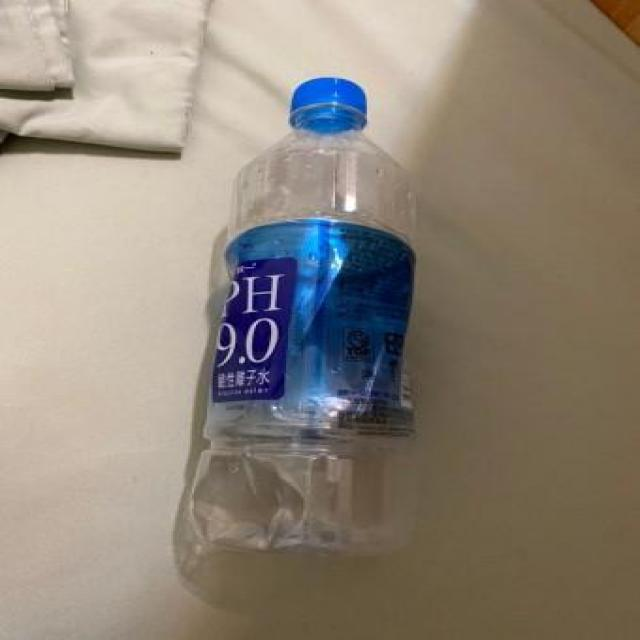bottle: (175, 67, 430, 578)
